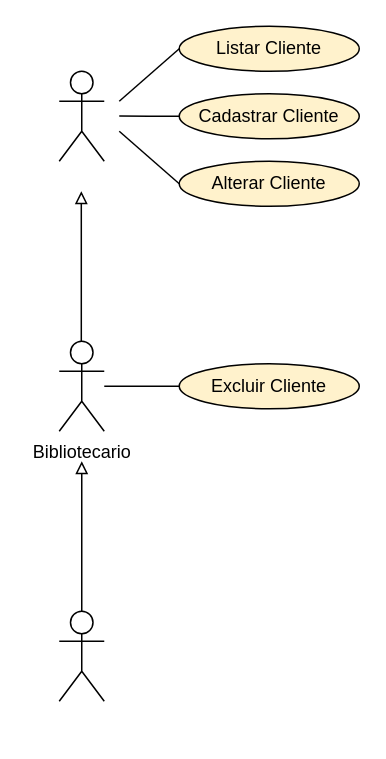
Some shapes in this 386 by 759 pixel diagram are drawn without their labels. The box of each missing label's shape, as (x1, y1, x2, y2) in pixels:
Administrador: (58, 610, 104, 701)
Funcionario: (58, 70, 104, 161)
